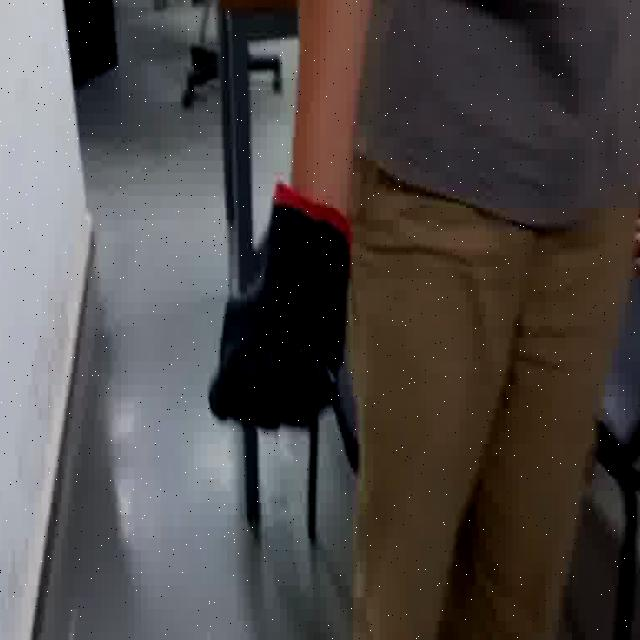Gloves: (208, 182, 354, 429)
